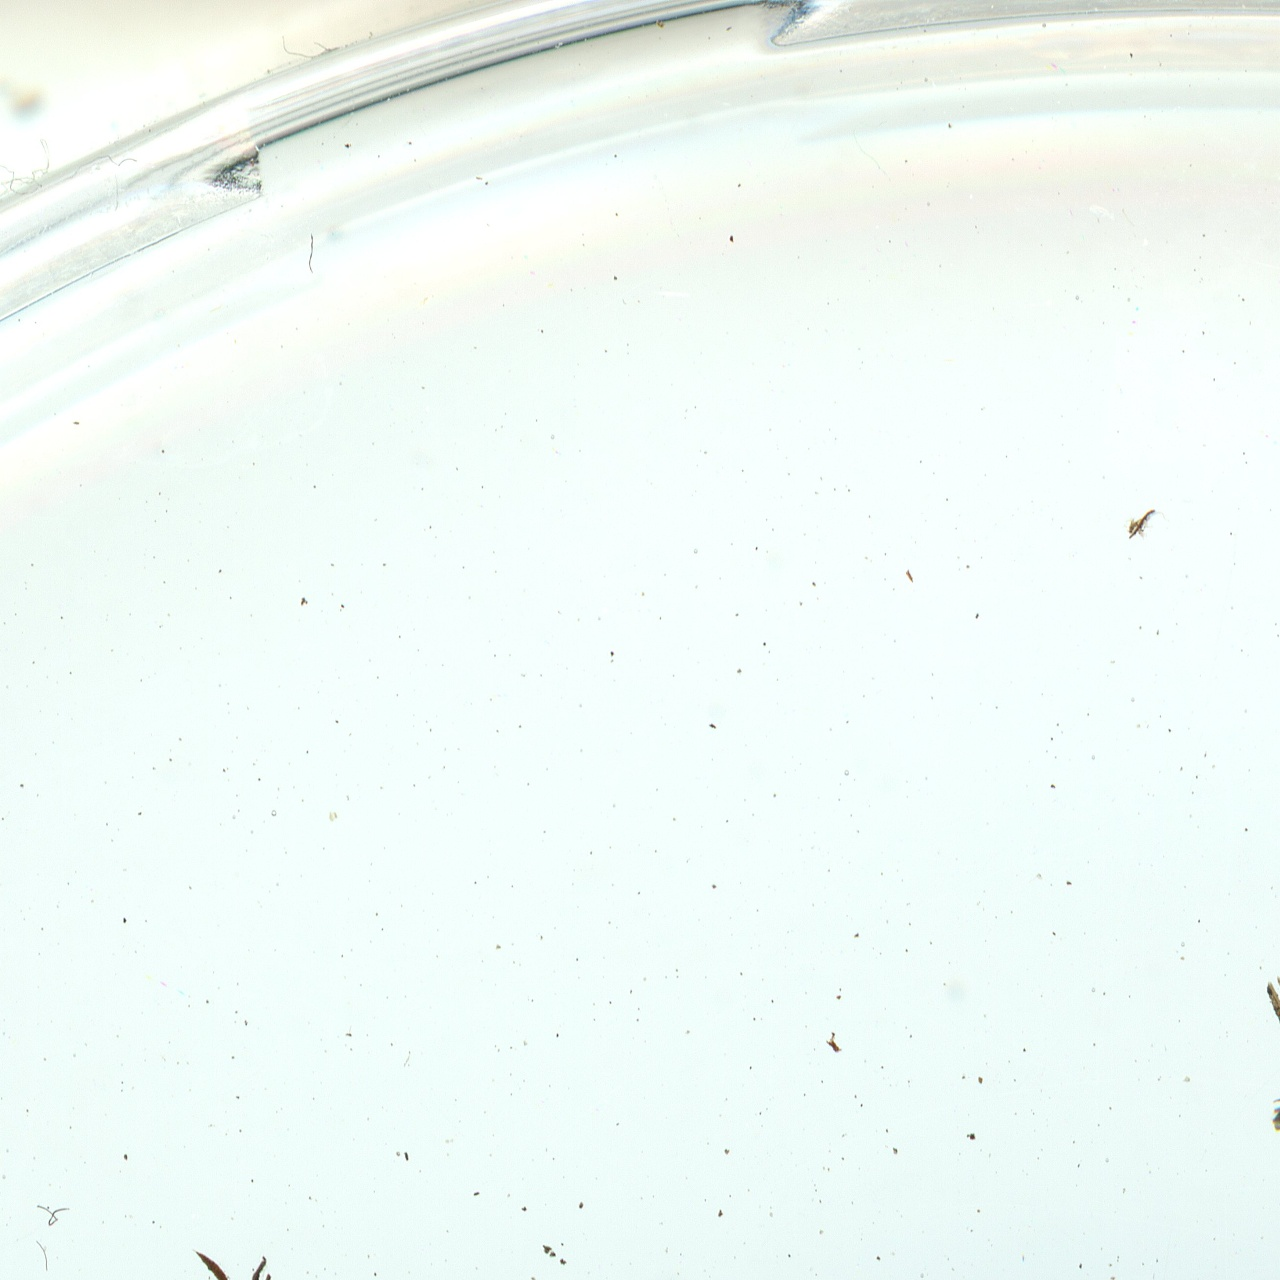arthropod: (1267, 1084, 1280, 1135)
